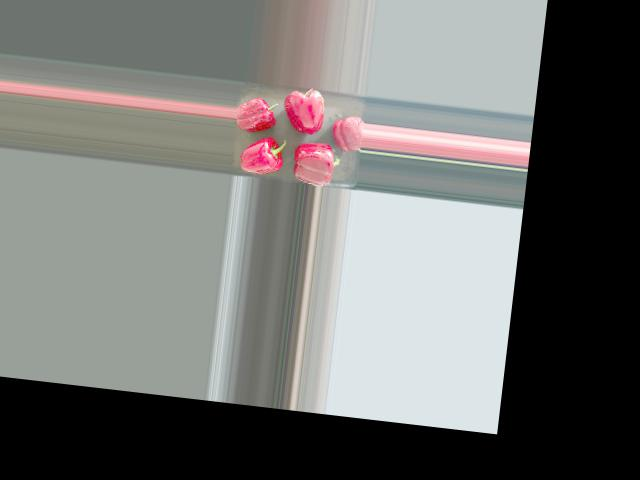bell_pepper: (328, 107, 365, 154)
